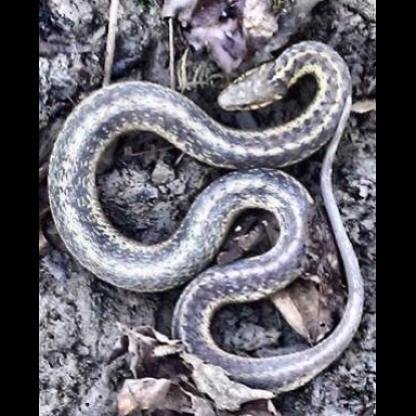Snake: (44, 37, 366, 391)
